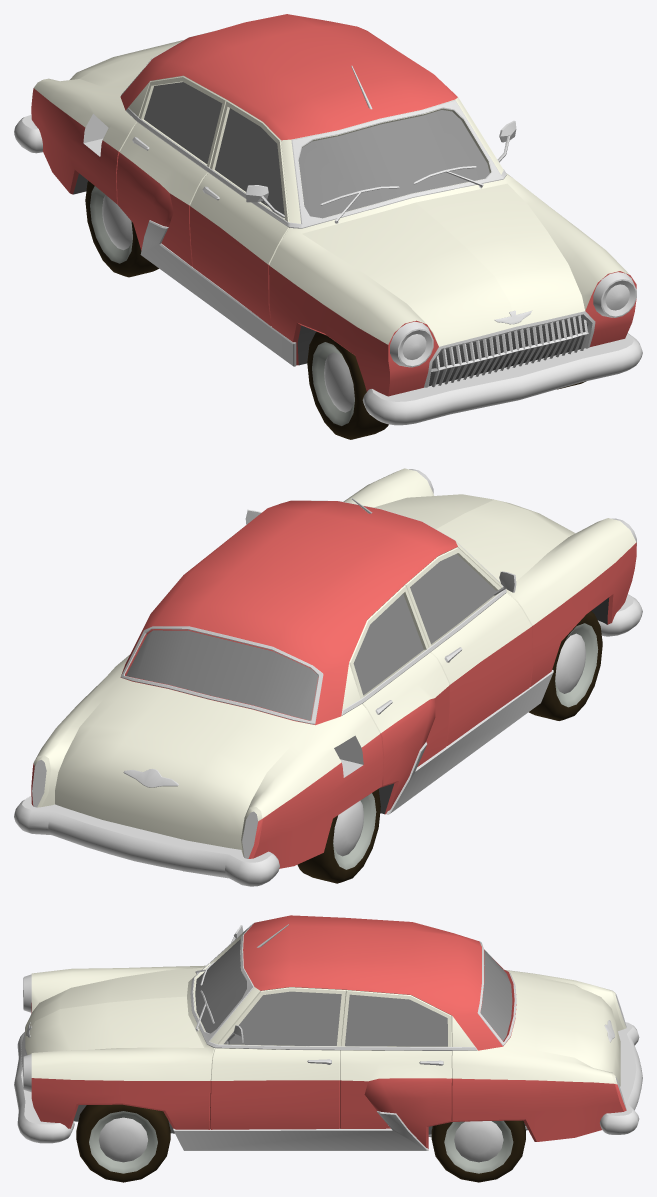
The model's file is Volga1.fbx.
The picture shows the model from 3 angles, top to bottom: view 1: azimuth 30°, elevation 25°; view 2: azimuth 150°, elevation 25°; view 3: azimuth 270°, elevation 25°; orthographic projection. The views are drawn at different scales.
Visible parts, largest first — view 1: Body, Wheel_FR, Wheel_RR; view 2: Body, Wheel_FR, Wheel_RR; view 3: Body, Wheel_FL, Wheel_RL.
Boxes of the visible parts, x1=… form: Body: x1=14, y1=14, x2=642, y2=425; Wheel_FR: x1=307, y1=332, x2=388, y2=439; Wheel_RR: x1=85, y1=181, x2=158, y2=277; Body: x1=14, y1=468, x2=642, y2=886; Wheel_FR: x1=529, y1=611, x2=602, y2=720; Wheel_RR: x1=297, y1=789, x2=380, y2=883; Body: x1=14, y1=915, x2=642, y2=1150; Wheel_FL: x1=76, y1=1104, x2=170, y2=1182; Wheel_RL: x1=431, y1=1120, x2=525, y2=1182.
Bounding box in the file's own units: 188 × 175 × 468.
